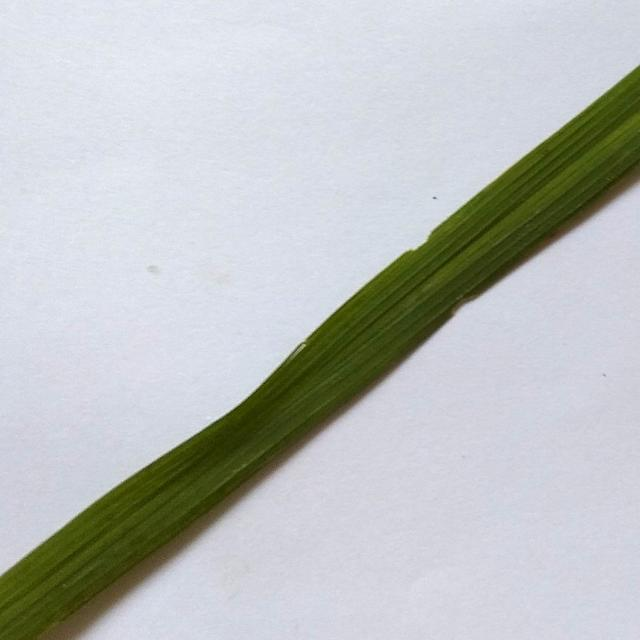Rice_Healthy: (0, 66, 640, 640)
